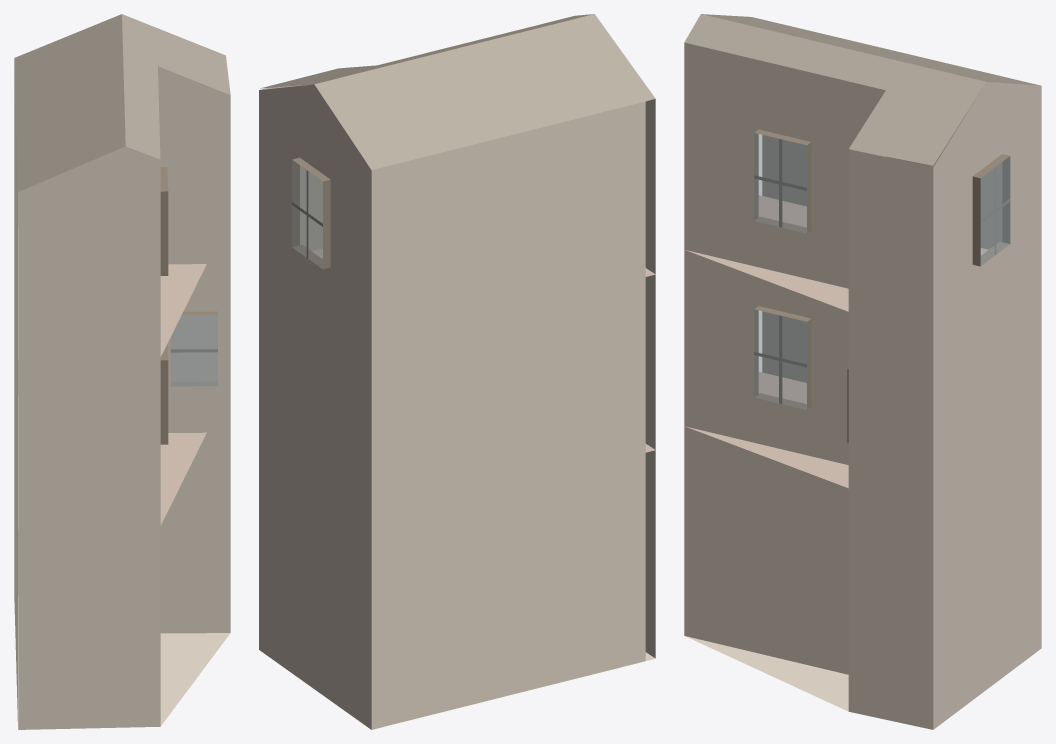
File: N-50.south_rear_three_storey_roofed.glb
3 renders of one model, left to right at view 1: azimuth 30°, elevation 25°; view 2: azimuth 150°, elevation 25°; view 3: azimuth 270°, elevation 25°, orthographic. The views are drawn at different scales.
Parts seen in each view (by area): view 1: N-50.south_rear_three_storey_roofed; view 2: N-50.south_rear_three_storey_roofed; view 3: N-50.south_rear_three_storey_roofed.
Part boxes in pixels (box(x1,y1,x2,y2)): N-50.south_rear_three_storey_roofed: box(14, 14, 230, 729); N-50.south_rear_three_storey_roofed: box(259, 14, 655, 729); N-50.south_rear_three_storey_roofed: box(684, 14, 1041, 729).
Size of the model in its own units: 5.85 by 11.02 by 5.87.
